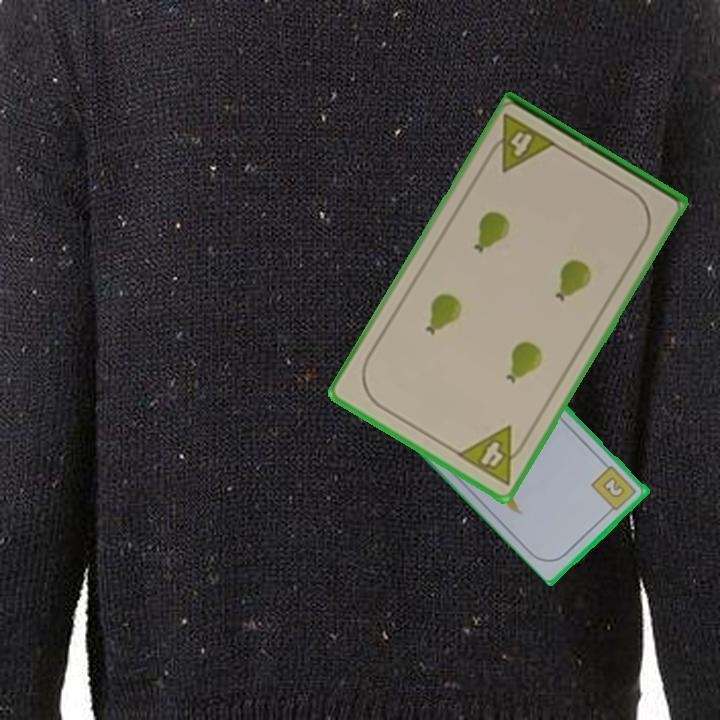2b: (588, 462, 640, 516)
4p: (453, 422, 533, 489), (482, 110, 561, 176)
